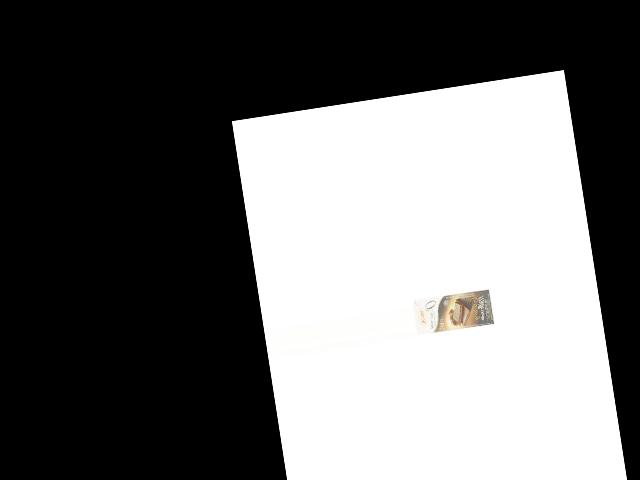chocolate: (411, 286, 495, 337)
